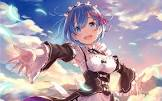rem: (12, 3, 137, 101)
